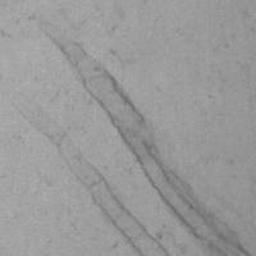Water spot: (110, 54, 256, 256), (63, 105, 214, 256)
